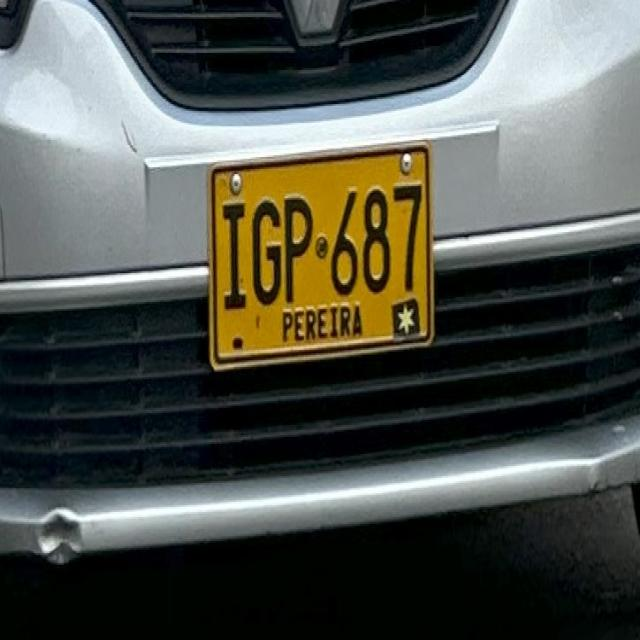number plate: (209, 143, 432, 365)
